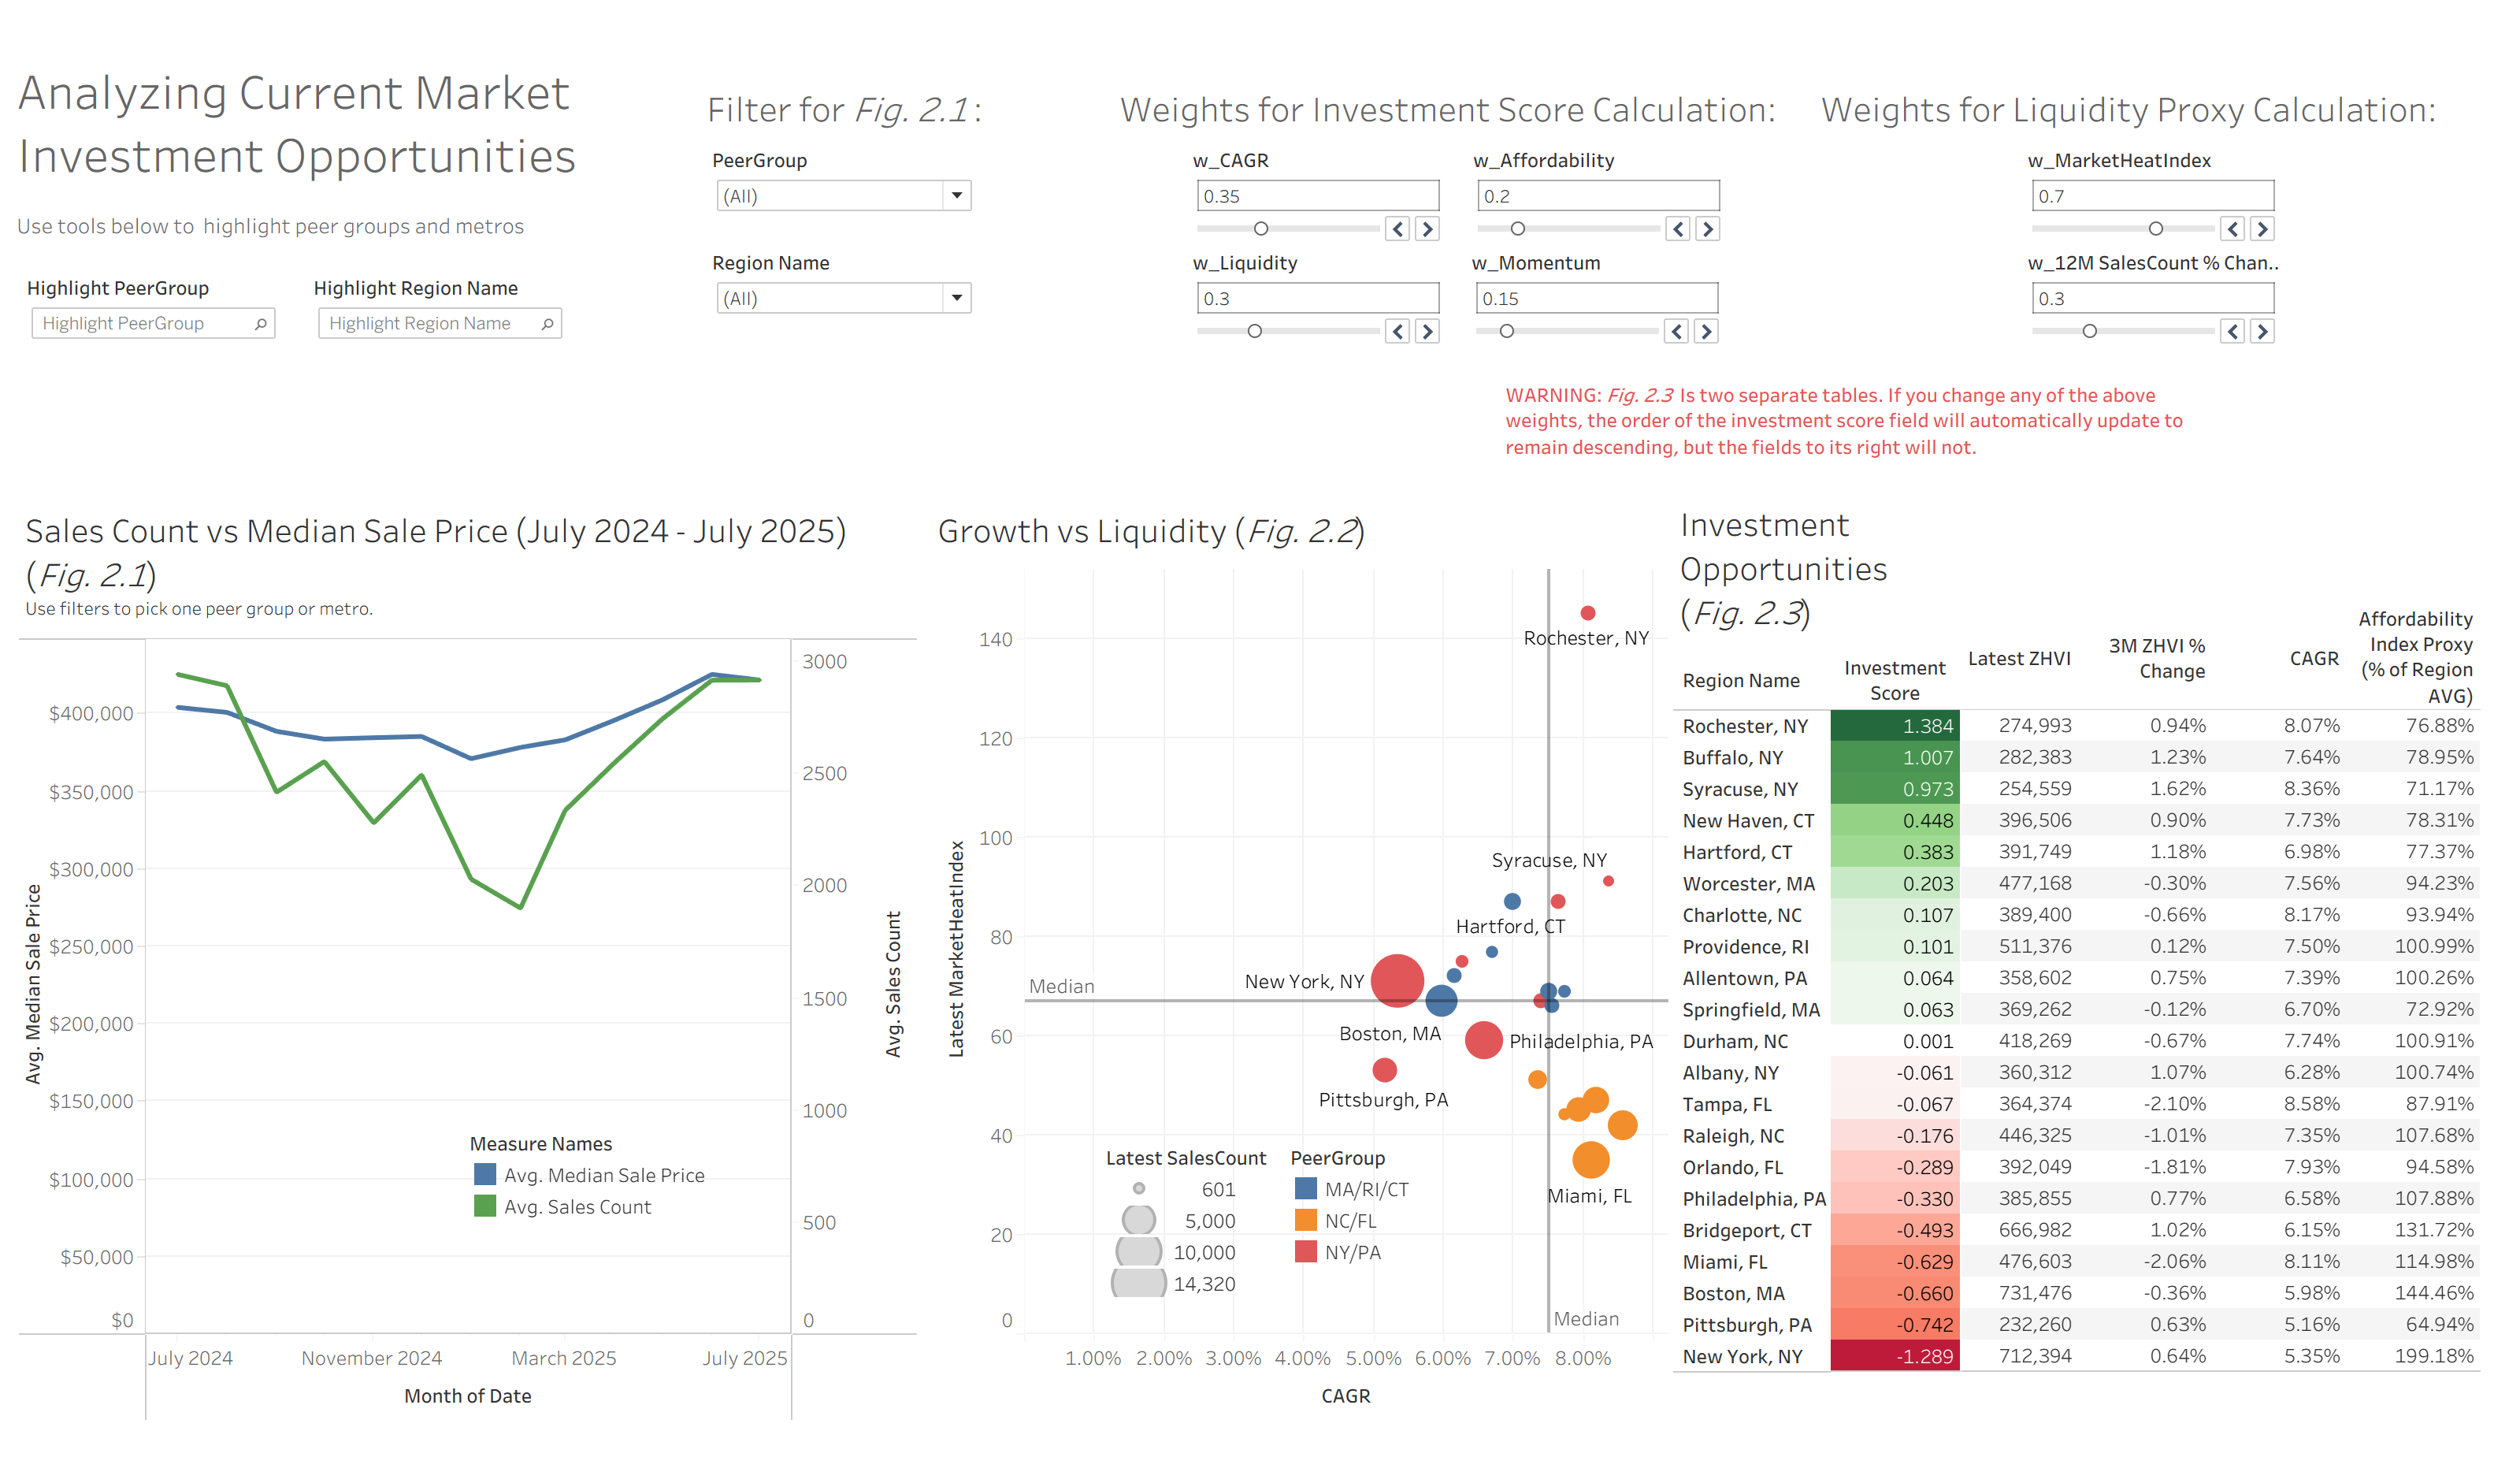

The dashboard page shown, as its layout file describes it:
{"tool":"tableau","page":{"name":"Investment Opportunities","canvas":[1600,900],"ordinal":0},"visuals":[{"type":"text","box":[8,6,437,149]},{"type":"text","box":[446,39,258,30]},{"type":"text","box":[708,39,423,30]},{"type":"text","box":[1153,39,397,30]},{"type":"filter","title":"Trend - MHI vs MSP (2025)","param":"[federated.1nmnbob0kwps1z16vwymn1202ozo].[none:PeerGroup:nk]","box":[452,79,168,62]},{"type":"parameter","param":"[Parameters].[Parameter 1]","box":[757,79,160,67]},{"type":"parameter","param":"[Parameters].[w_CAGR (copy)_895371948689387523]","box":[935,79,160,67]},{"type":"parameter","param":"[Parameters].[Parameter 3]","box":[1287,79,160,67]},{"type":"filter","title":"Trend - MHI vs MSP (2025)","param":"[federated.1nmnbob0kwps1z16vwymn1202ozo].[none:RegionName:nk]","box":[452,144,168,52]},{"type":"parameter","param":"[Parameters].[w_CAGR (copy) (copy) (copy)_895371948689412101]","box":[757,144,160,67]},{"type":"parameter","param":"[Parameters].[w_CAGR (copy) (copy)_895371948689399812]","box":[934,144,160,67]},{"type":"parameter","param":"[Parameters].[Parameter 2]","box":[1287,144,160,67]},{"type":"highlighter","title":"Scatter - CAGR vs Liquidity","param":"[federated.1nmnbob0kwps1z16vwymn1202ozo].[none:PeerGroup:nk]","box":[17,160,161,52]},{"type":"highlighter","title":"Scatter - CAGR vs Liquidity","param":"[federated.1nmnbob0kwps1z16vwymn1202ozo].[none:RegionName:nk]","box":[199,160,161,52]},{"type":"text","box":[953,228,437,51]},{"type":"worksheet","title":"Trend - MHI vs MSP (2025)","mark":"Automatic","rows":["MedianSalePrice","SalesCount"],"cols":["Date"],"box":[8,300,579,592]},{"type":"worksheet","title":"Scatter - CAGR vs Liquidity","mark":"Circle","rows":["Calculation_895371948711378953"],"cols":["Calculation_2668945775515459584"],"box":[587,300,476,592]},{"type":"worksheet","title":"Table - Ranking","mark":"Square","rows":["RegionName"],"box":[1062,300,218,565]},{"type":"legend","title":"Trend - MHI vs MSP (2025)","param":"[federated.1nmnbob0kwps1z16vwymn1202ozo].[:Measure Names]","box":[298,703,163,58]},{"type":"legend","title":"Scatter - CAGR vs Liquidity","param":"[federated.1nmnbob0kwps1z16vwymn1202ozo].[sum:Calculation_895371948719017996:qk]","box":[702,712,140,98]},{"type":"legend","title":"Scatter - CAGR vs Liquidity","param":"[federated.1nmnbob0kwps1z16vwymn1202ozo].[none:PeerGroup:nk]","box":[819,712,140,78]}]}

Visuals, with their boxes in screenshot pixels (x1, y1, x2, y2), scaled from the page's 1600x900 canvas onto the 2520x1457 screenshot:
text: box=[13, 9, 701, 251]
text: box=[703, 63, 1109, 112]
text: box=[1115, 63, 1781, 112]
text: box=[1816, 63, 2441, 112]
"Trend - MHI vs MSP (2025)" filter: box=[712, 128, 977, 229]
parameter: box=[1193, 128, 1444, 236]
parameter: box=[1472, 128, 1724, 236]
parameter: box=[2027, 128, 2279, 236]
"Trend - MHI vs MSP (2025)" filter: box=[712, 233, 977, 318]
parameter: box=[1193, 233, 1444, 341]
parameter: box=[1471, 233, 1723, 341]
parameter: box=[2027, 233, 2279, 341]
"Scatter - CAGR vs Liquidity" highlighter: box=[27, 259, 280, 344]
"Scatter - CAGR vs Liquidity" highlighter: box=[314, 259, 567, 344]
text: box=[1501, 369, 2189, 452]
"Trend - MHI vs MSP (2025)" worksheet: box=[13, 485, 925, 1444]
"Scatter - CAGR vs Liquidity" worksheet (Circle marks): box=[925, 485, 1674, 1444]
"Table - Ranking" worksheet (Square marks): box=[1672, 485, 2016, 1400]
"Trend - MHI vs MSP (2025)" legend: box=[469, 1138, 726, 1232]
"Scatter - CAGR vs Liquidity" legend: box=[1106, 1153, 1326, 1311]
"Scatter - CAGR vs Liquidity" legend: box=[1290, 1153, 1510, 1279]
